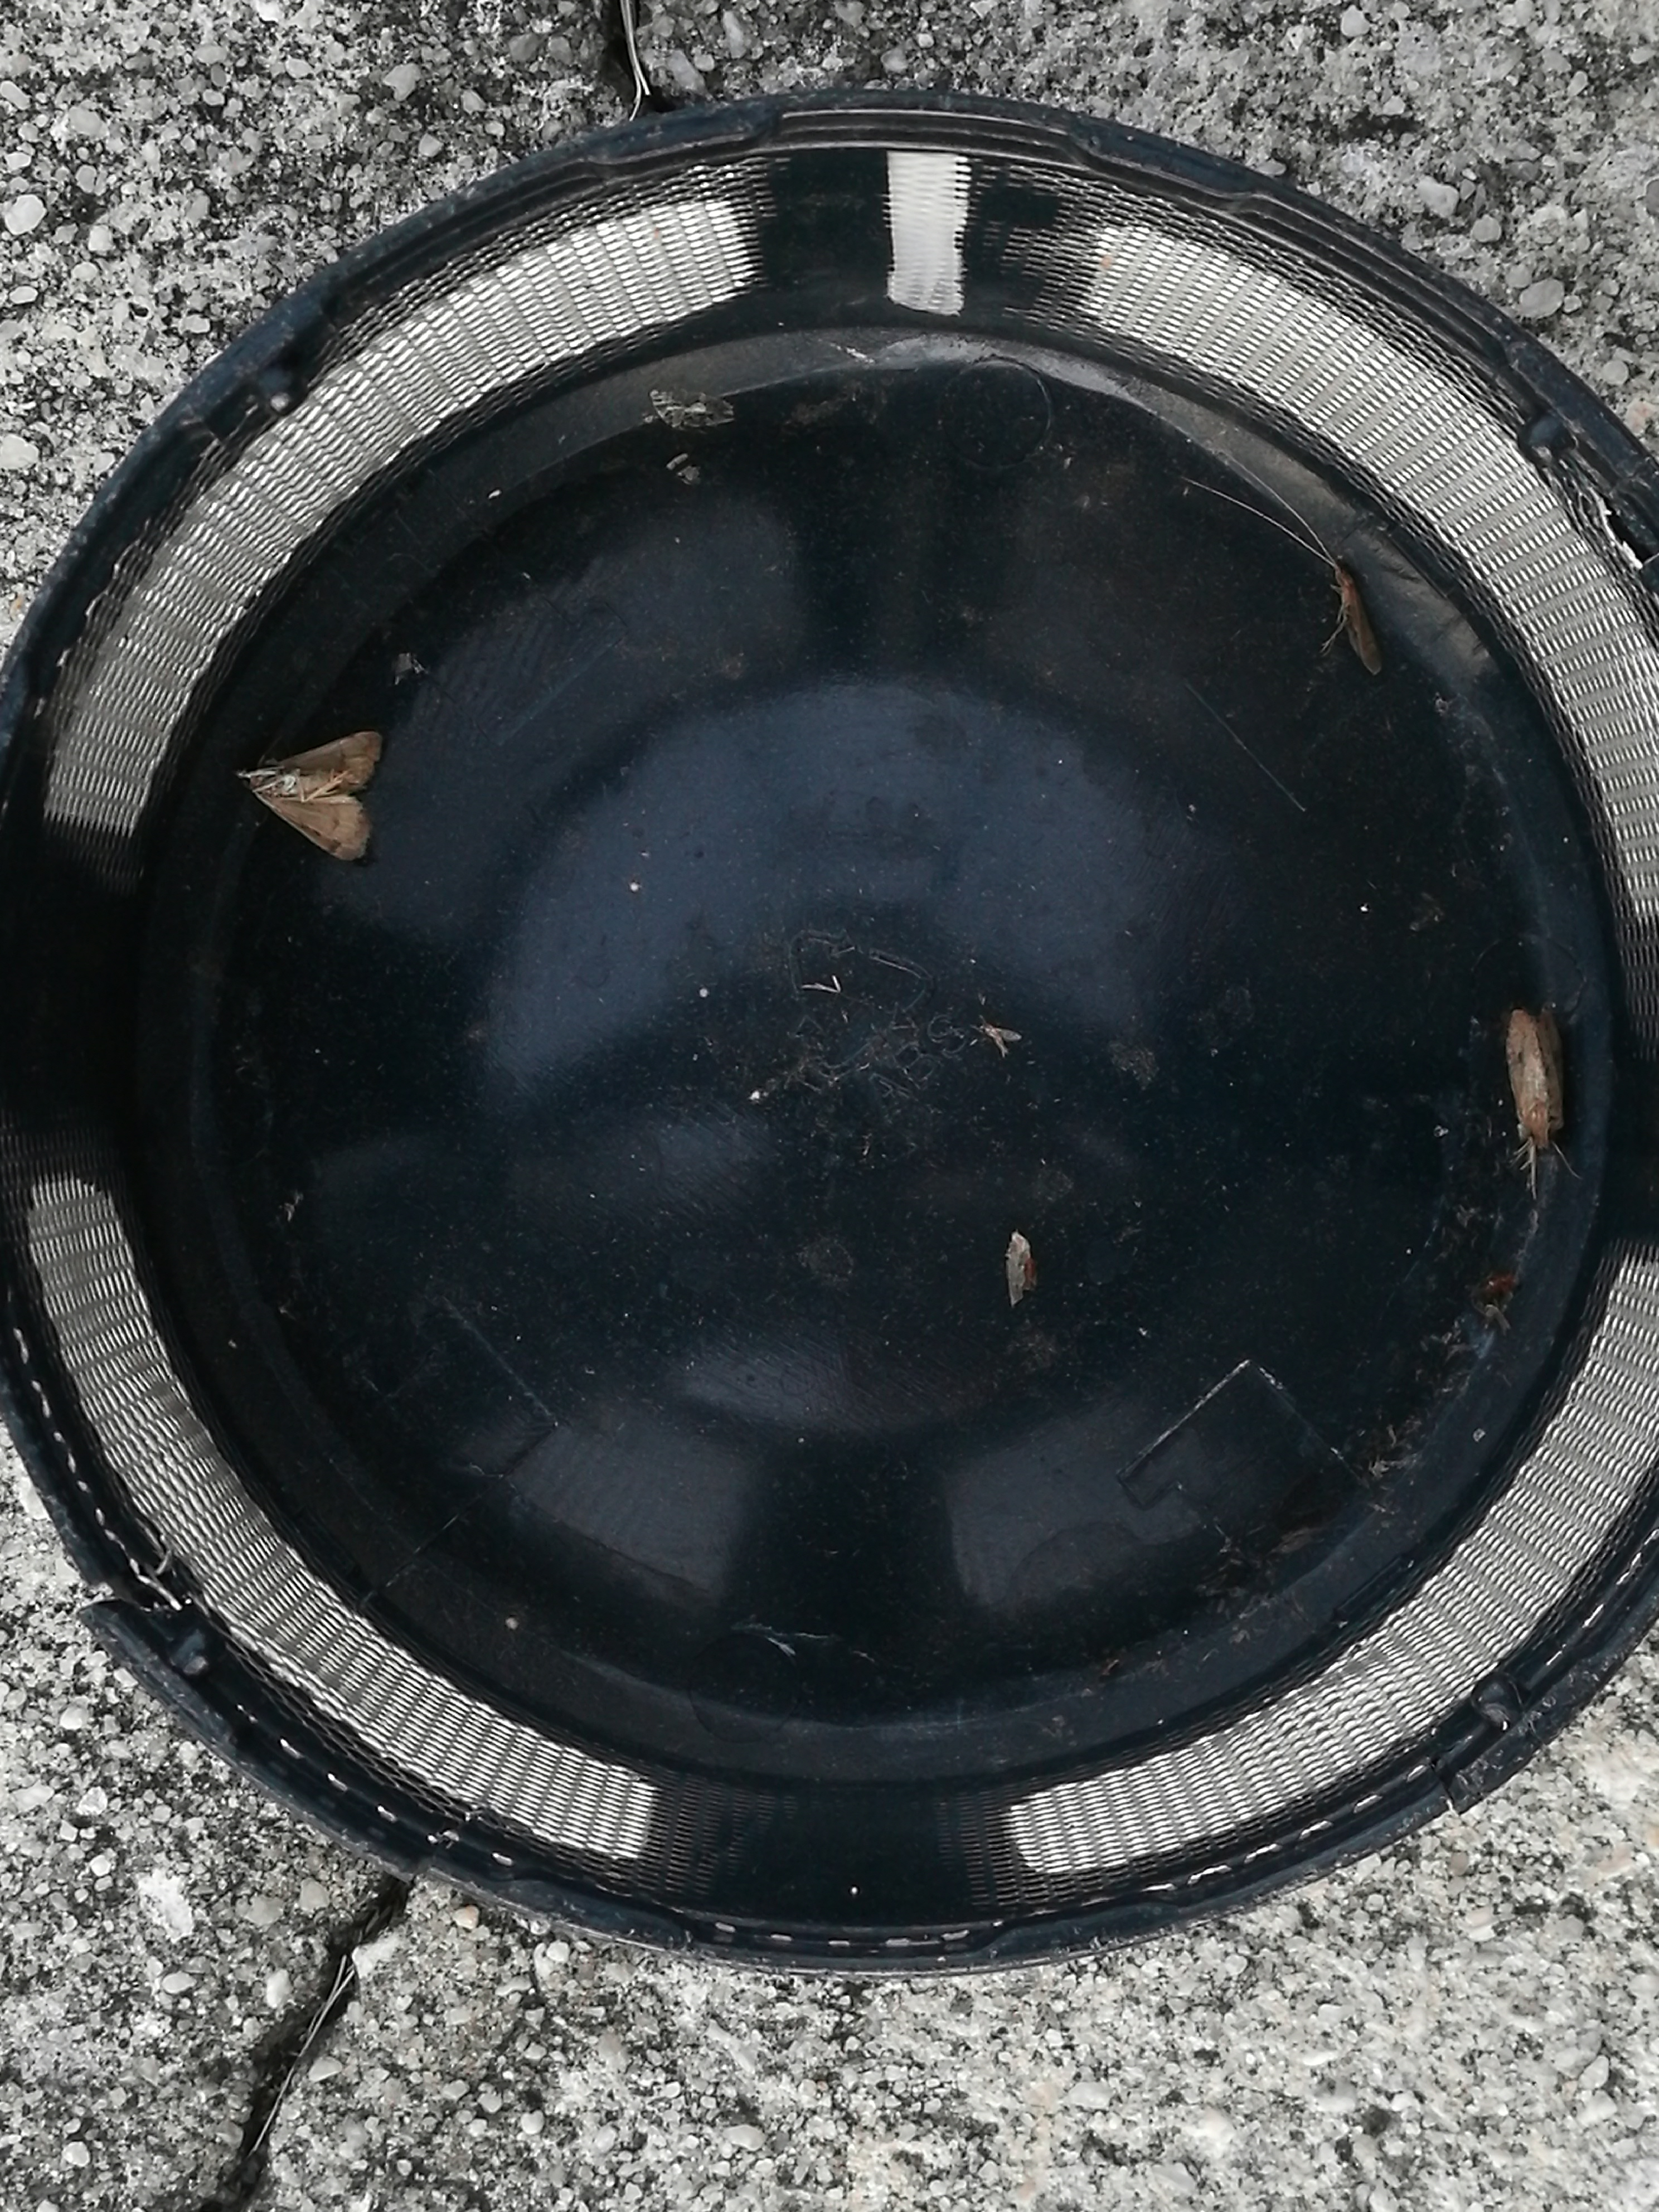mosquito: (1335, 566, 1382, 676)
moth: (244, 733, 380, 859), (1506, 1005, 1561, 1153)
